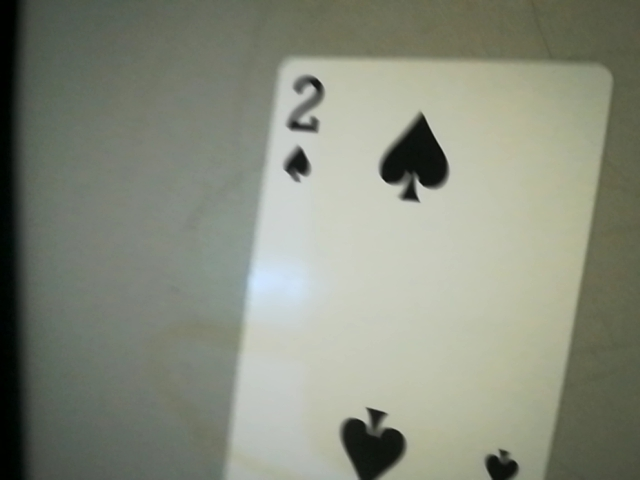ht 2: (266, 64, 340, 192)
